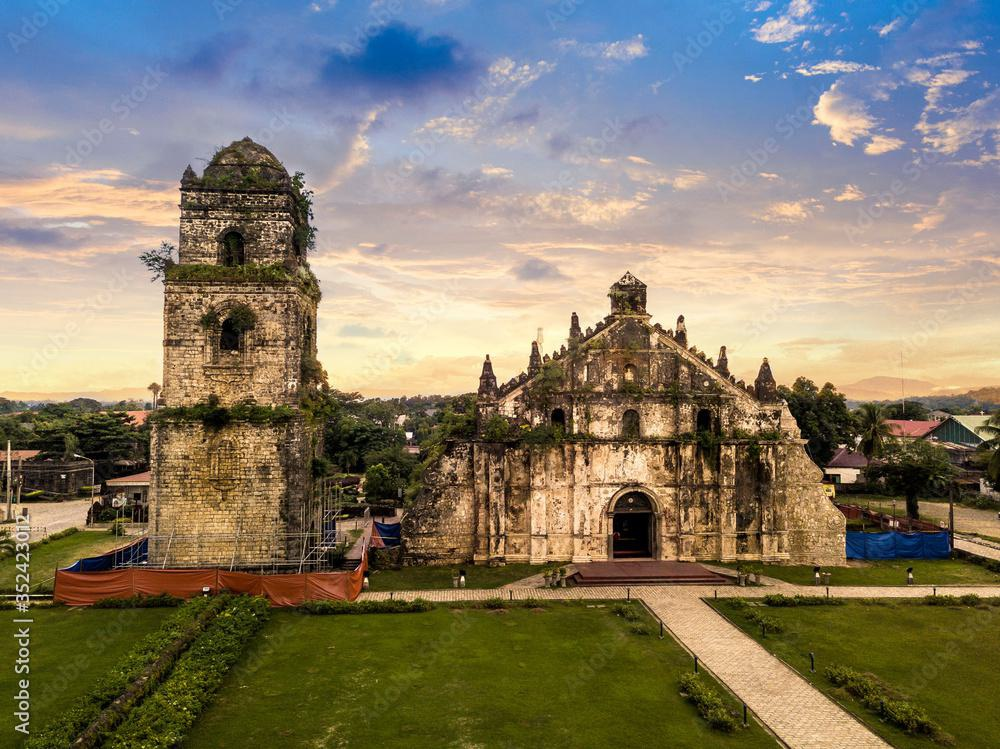paoay_church_paoay_ilocos_norte: (127, 121, 862, 584)
vegetation_damage: (168, 394, 283, 429), (280, 176, 328, 256), (480, 415, 565, 450), (144, 243, 187, 286), (538, 354, 570, 402), (686, 425, 720, 447)
